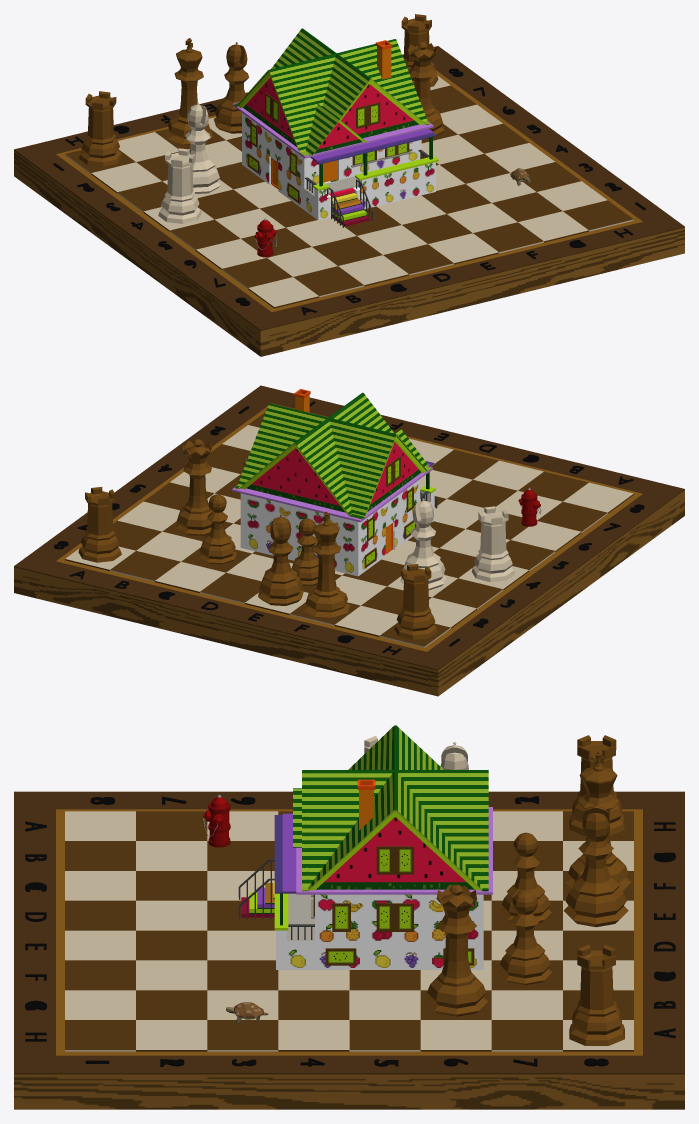
3 renders of one model, top to bottom at view 1: azimuth 30°, elevation 25°; view 2: azimuth 150°, elevation 25°; view 3: azimuth 270°, elevation 25°, orthographic. The views are drawn at different scales.
Parts seen in each view (by area): view 1: Cube.002, Cube.1063, OBJRANDOM_FIRE_HYDRANT; view 2: Cube.002, Cube.1063, OBJRANDOM_FIRE_HYDRANT; view 3: Cube.002, Cube.1063, OBJRANDOM_FIRE_HYDRANT.
Boxes of the visible parts, x1,y1,x2,y2 form: Cube.002: (14, 14, 684, 356); Cube.1063: (232, 28, 438, 227); OBJRANDOM_FIRE_HYDRANT: (254, 218, 276, 257); Cube.002: (14, 385, 684, 696); Cube.1063: (232, 389, 437, 576); OBJRANDOM_FIRE_HYDRANT: (518, 487, 541, 526); Cube.002: (14, 735, 684, 1109); Cube.1063: (238, 725, 492, 969); OBJRANDOM_FIRE_HYDRANT: (203, 794, 230, 847).
Bounding box in the file's own units: 3981 × 1484 × 4012.
Materials: 27 (4 with a texture image).
